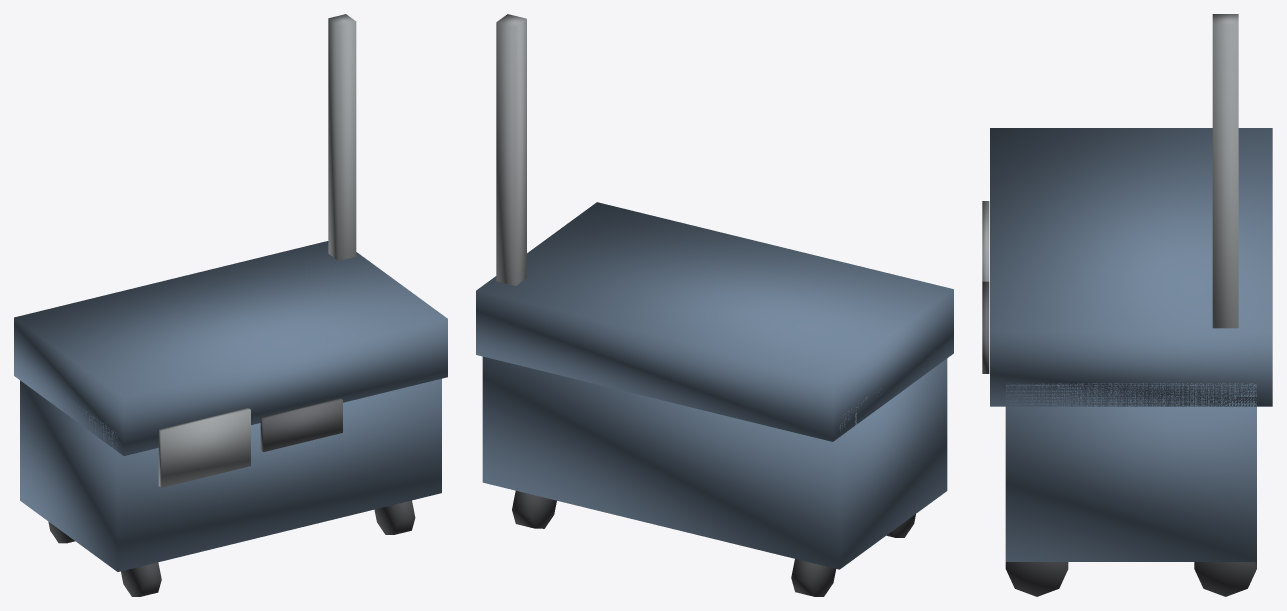
File: housekeeping_cart__weathered.glb
The picture shows the model from 3 angles, left to right: view 1: azimuth 30°, elevation 25°; view 2: azimuth 150°, elevation 25°; view 3: azimuth 270°, elevation 25°; orthographic projection. The views are drawn at different scales.
Visible parts, largest first — view 1: world; view 2: world; view 3: world.
Boxes of the visible parts, <box> form: world: <box>14,14,447,596</box>; world: <box>476,14,953,596</box>; world: <box>982,14,1272,596</box>.
Size of the model in its own units: 0.92 by 1.23 by 0.5548.
